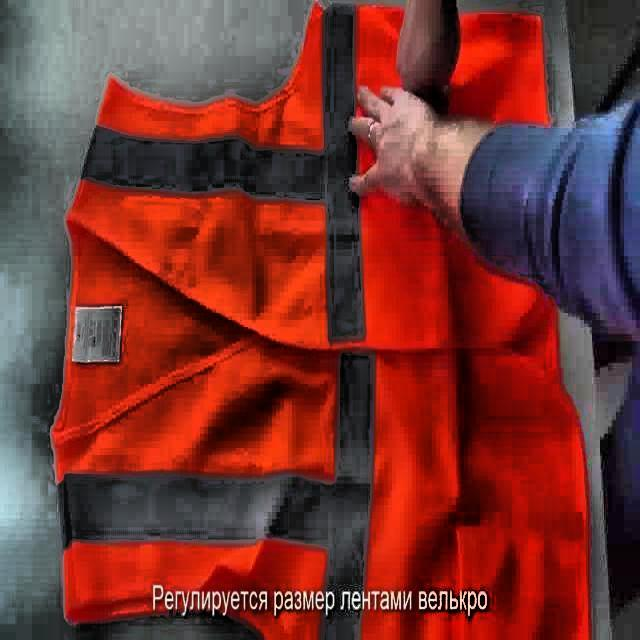safety_jacket: (51, 0, 594, 640)
